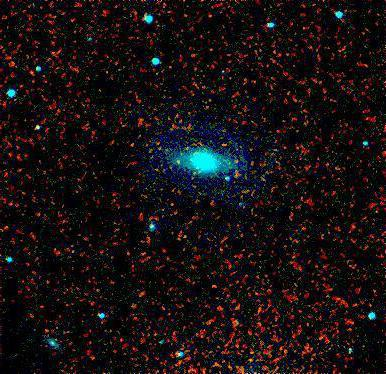star: (163, 147, 193, 177)
